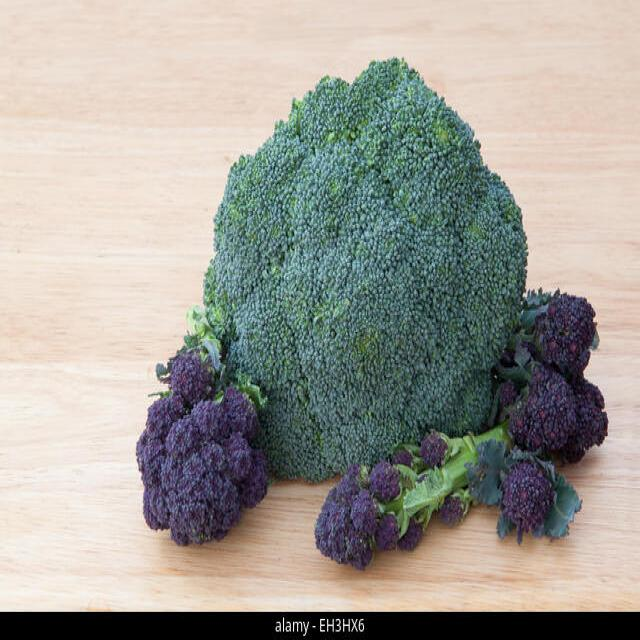broccoli: (202, 52, 528, 486)
